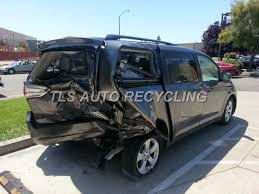rear-bumper-dent: (46, 122, 130, 148)
